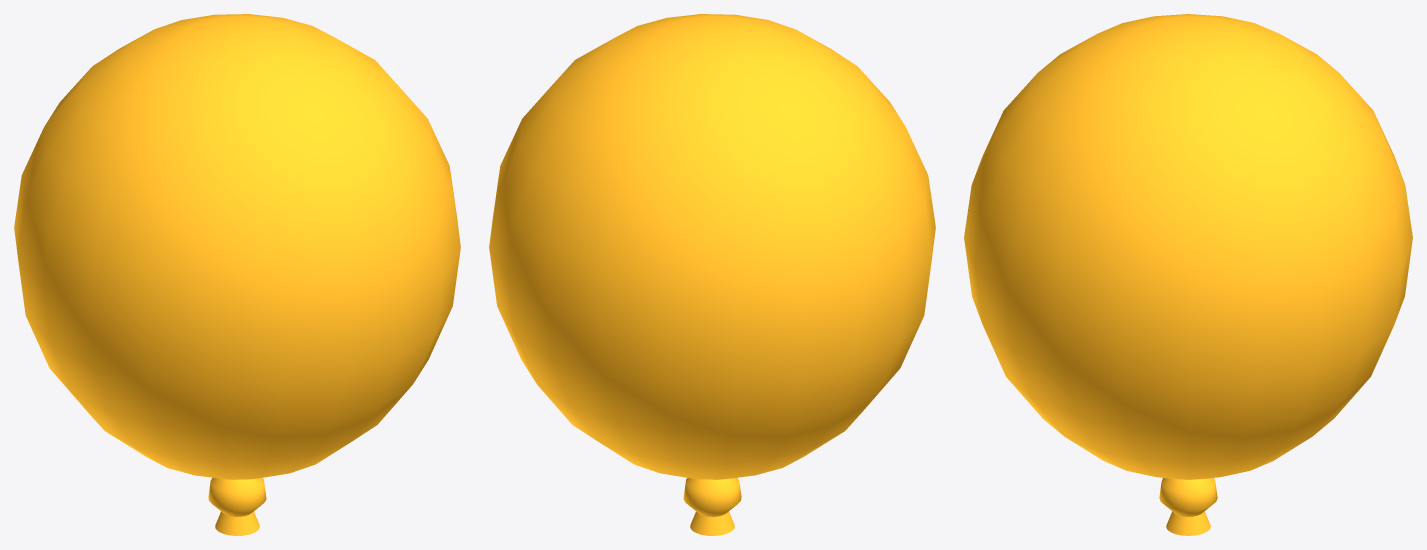
Rendered from Balloon_Gold.fbx.
3 views of the same model, side by side, from view 1: azimuth 30°, elevation 25°; view 2: azimuth 150°, elevation 25°; view 3: azimuth 270°, elevation 25° (orthographic).
Parts seen in each view (by area): view 1: Balloon_Gold; view 2: Balloon_Gold; view 3: Balloon_Gold.
Part boxes in pixels (left/top/right/bottom): Balloon_Gold: left=14, top=14, right=460, bottom=535; Balloon_Gold: left=489, top=14, right=935, bottom=535; Balloon_Gold: left=964, top=14, right=1412, bottom=535.
Size of the model in its own units: 0.12 by 0.1452 by 0.12.
